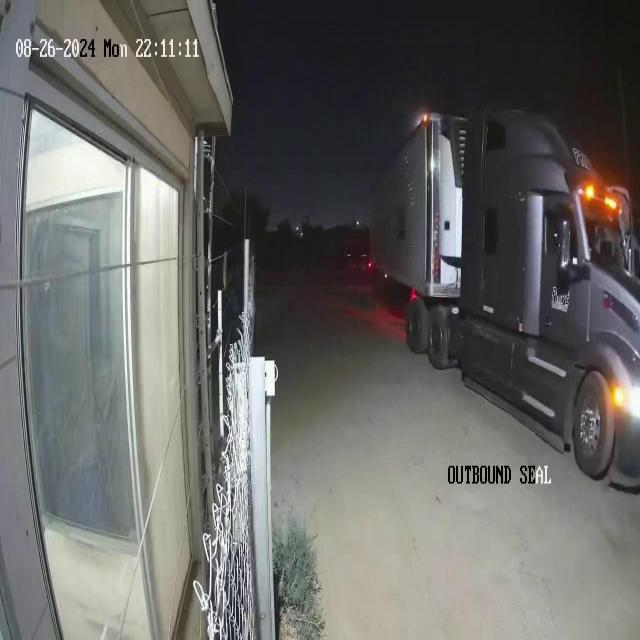CONTAINER: (370, 103, 474, 297)
